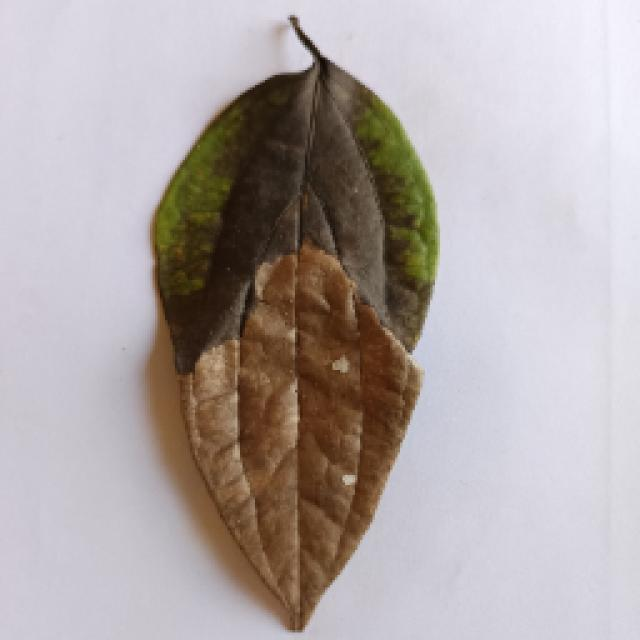footrot: (152, 20, 440, 630)
